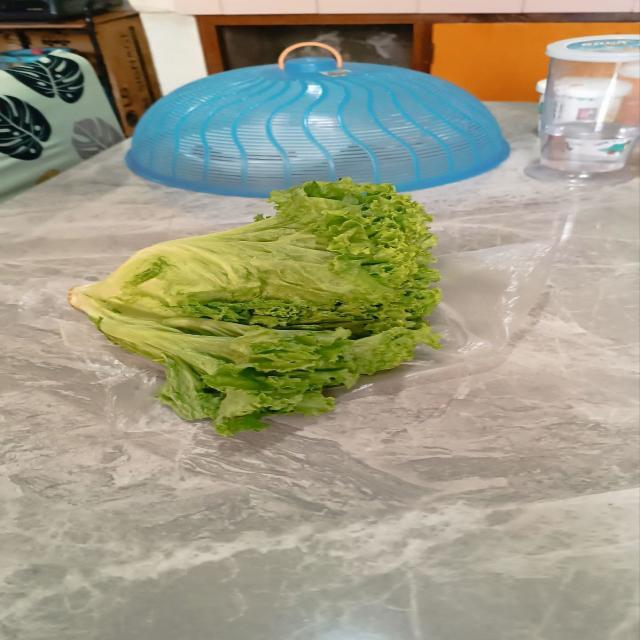Lettuce-Ready-to-Harvest: (67, 179, 441, 426)
